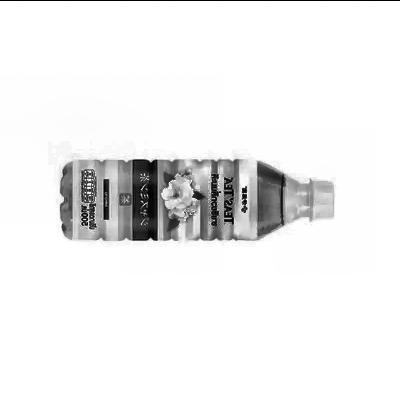waterbottle: (36, 121, 350, 275)
